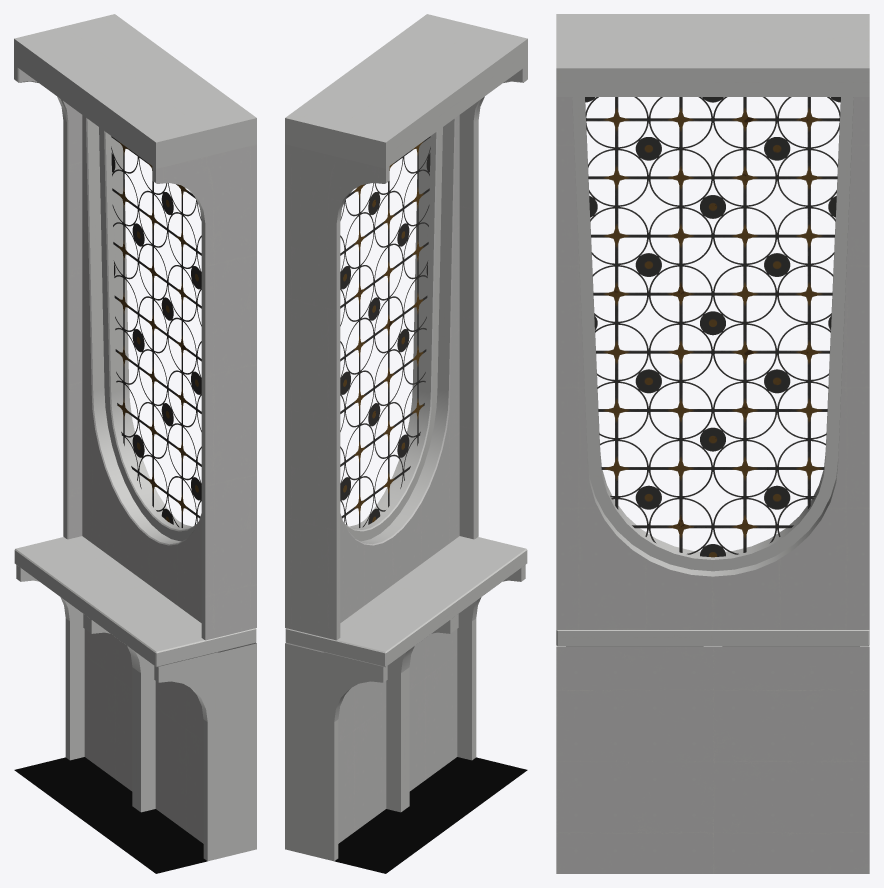
Rendered from Wall.fbx.
3 renders of one model, left to right at view 1: azimuth 30°, elevation 25°; view 2: azimuth 150°, elevation 25°; view 3: azimuth 270°, elevation 25°, orthographic. The views are drawn at different scales.
Parts seen in each view (by area): view 1: Wall, Floor, InfillPanel, Pit; view 2: Wall, Floor, InfillPanel, Pit; view 3: Wall, Floor, InfillPanel.
Part boxes in pixels (x1,y1,x2,y2): Wall: (14, 14, 256, 640); Floor: (14, 536, 256, 861); InfillPanel: (111, 136, 201, 527); Pit: (14, 757, 207, 873); Wall: (285, 14, 527, 640); Floor: (285, 536, 527, 861); InfillPanel: (340, 136, 430, 527); Pit: (334, 757, 527, 873); Wall: (556, 14, 869, 629); Floor: (556, 630, 869, 873); InfillPanel: (585, 97, 840, 557).
Bounding box in the file's own units: 205 × 1420 × 500.
